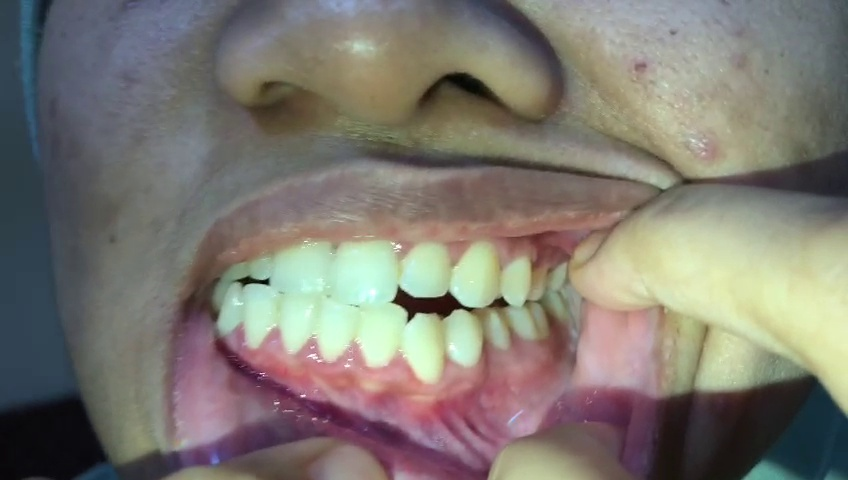1st Molar: (502, 306, 536, 345), (548, 259, 571, 296)
1st Premolar: (444, 309, 483, 368), (501, 254, 531, 307)
2nd Molar: (527, 298, 550, 342)
2nd Premolar: (478, 305, 510, 354), (527, 260, 548, 300)
3rd Molar: (545, 293, 567, 331)
Canine: (452, 242, 503, 309), (403, 310, 445, 385), (217, 283, 248, 337)
Central Incisor: (330, 228, 401, 307), (270, 228, 330, 296), (316, 296, 361, 366), (276, 292, 318, 354)
Lateral Incisor: (358, 299, 405, 372), (400, 237, 451, 299), (241, 282, 278, 352)
